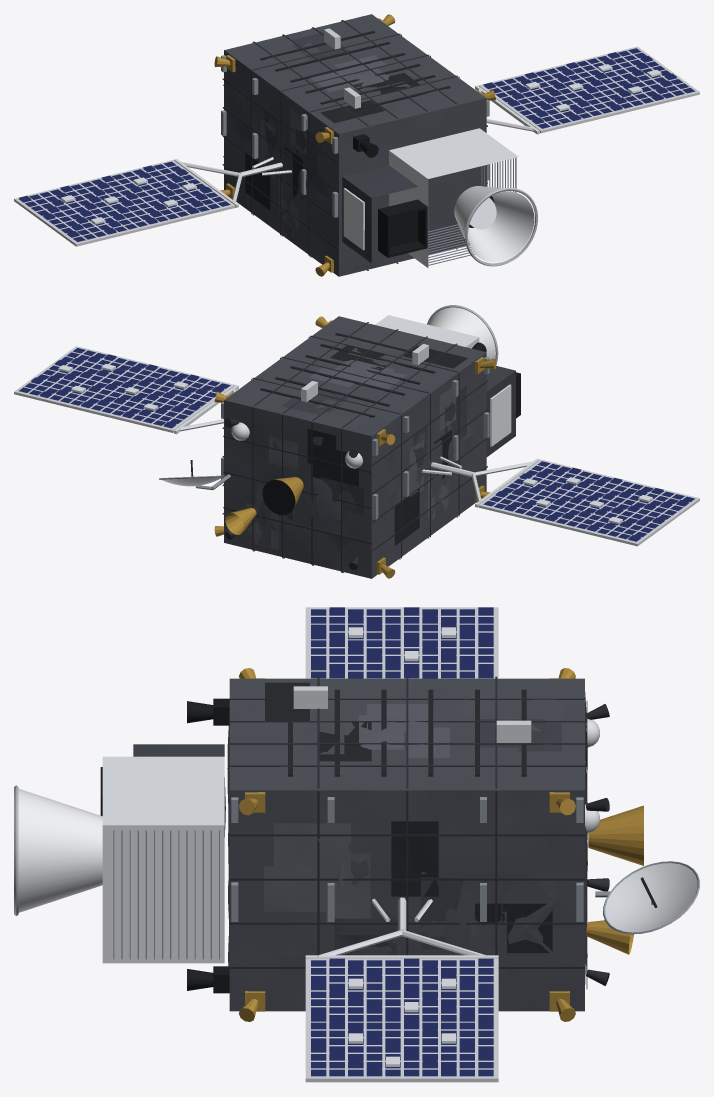
Rendered from mtg-s.glb.
3 renders of one model, top to bottom at view 1: azimuth 30°, elevation 25°; view 2: azimuth 150°, elevation 25°; view 3: azimuth 270°, elevation 25°, orthographic. The views are drawn at different scales.
Parts seen in each view (by area): view 1: foil, body, solar-panel; view 2: foil, body, solar-panel; view 3: foil, body, solar-panel.
Boxes of the visible parts, x1,y1,x2,y2 form: foil: (214, 14, 495, 276); body: (14, 28, 699, 267); solar-panel: (19, 48, 695, 241); foil: (214, 316, 515, 578); body: (14, 305, 699, 569); solar-panel: (19, 348, 694, 541); foil: (133, 668, 643, 1021); body: (14, 607, 699, 1082); solar-panel: (311, 607, 493, 1076).
Size of the model in its own units: 10.98 by 2.84 by 6.75.
